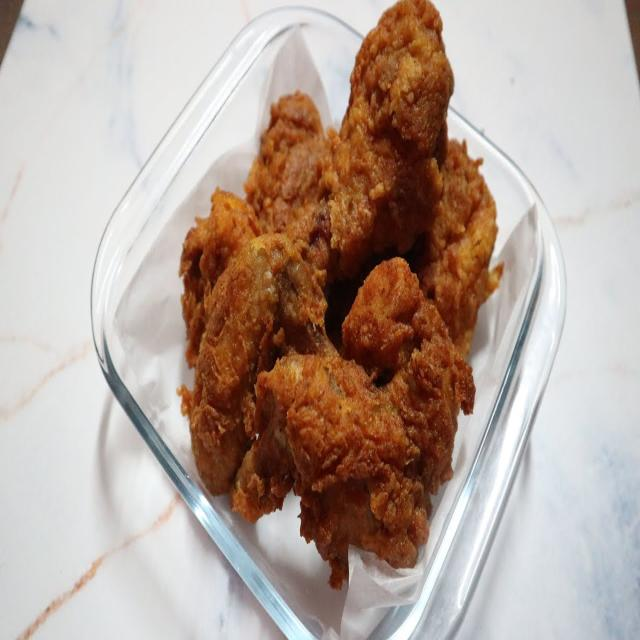Frango: (179, 0, 507, 606)
